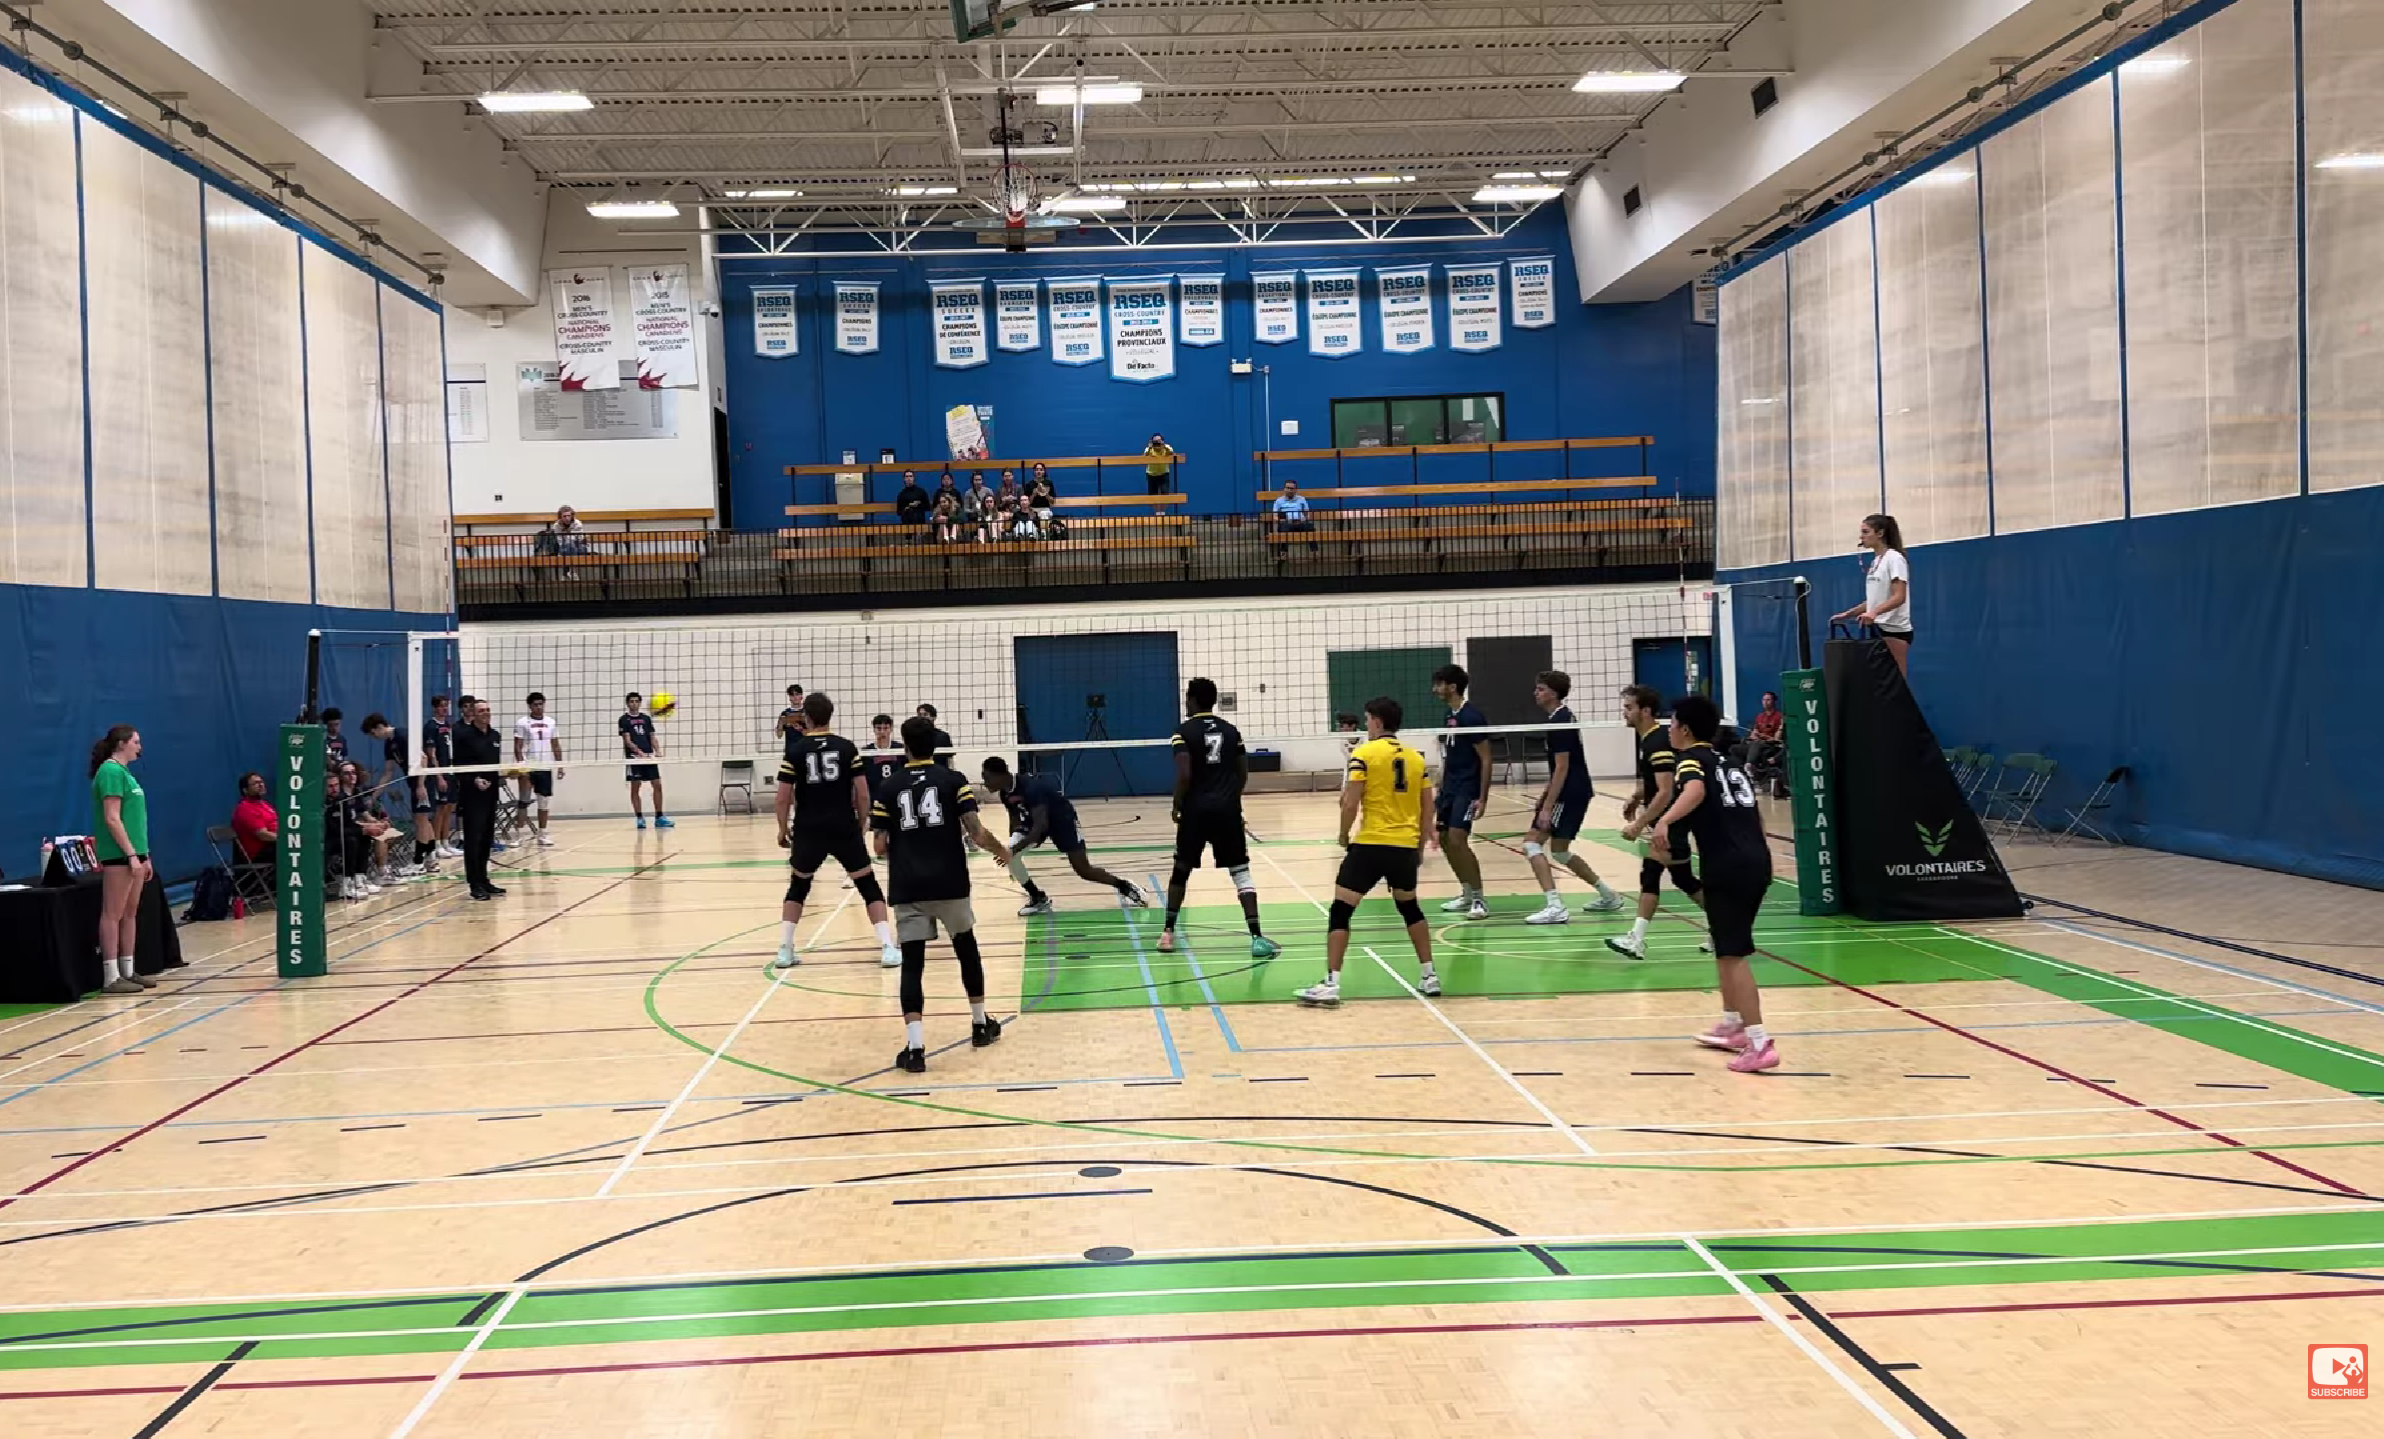Ball: (645, 690, 678, 720)
